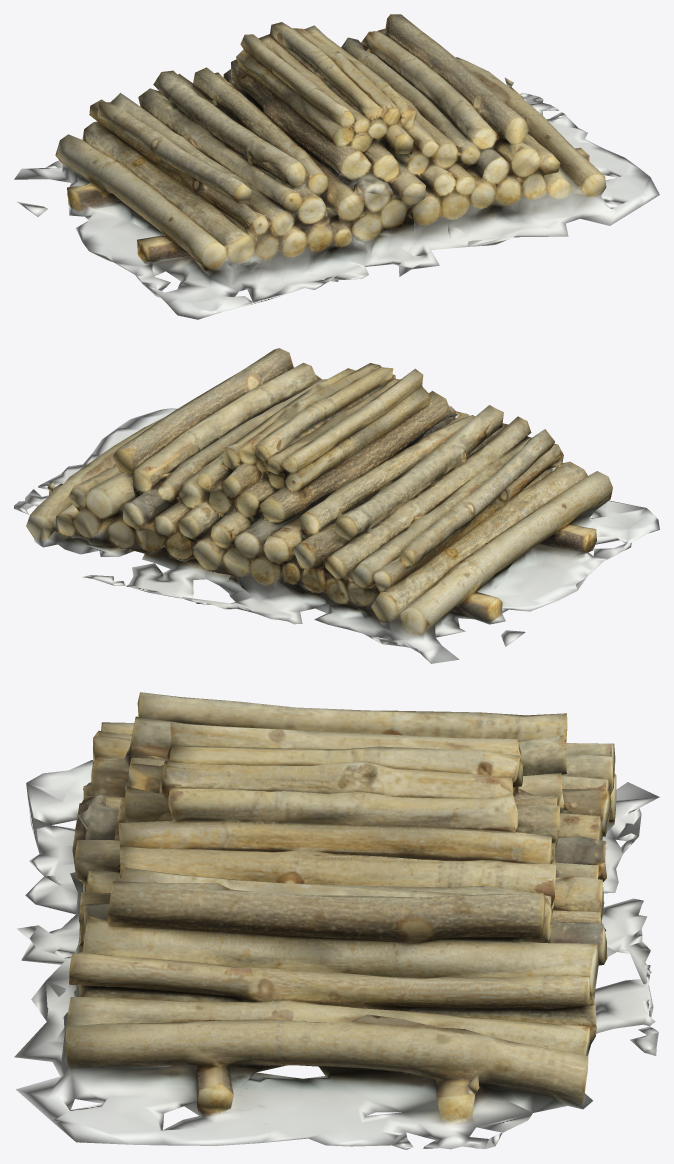
File: mdl_obj_bois_01.fbx
The picture shows the model from 3 angles, top to bottom: view 1: azimuth 30°, elevation 25°; view 2: azimuth 150°, elevation 25°; view 3: azimuth 270°, elevation 25°; orthographic projection. The views are drawn at different scales.
Visible parts, largest first — view 1: mdl_obj_bois_01; view 2: mdl_obj_bois_01; view 3: mdl_obj_bois_01.
Part boxes in pixels (x1,y1,x2,y2): mdl_obj_bois_01: (14,14,659,319); mdl_obj_bois_01: (14,348,659,663); mdl_obj_bois_01: (14,692,659,1149).
Bounding box in the file's own units: 13.39 × 3.36 × 9.54.
1 material, 1 textured.
